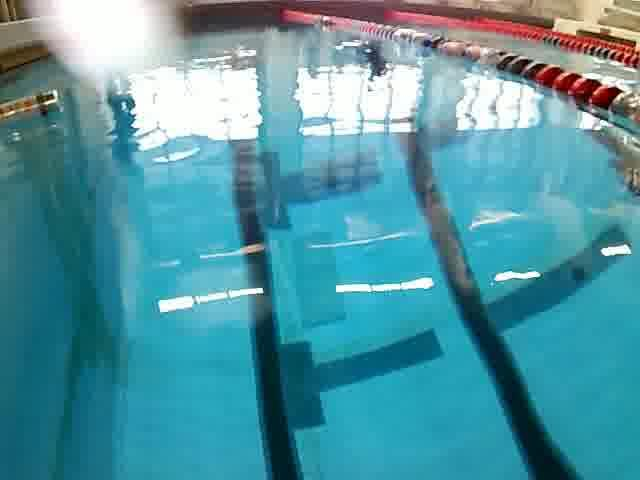Can: (1, 76, 76, 138)
